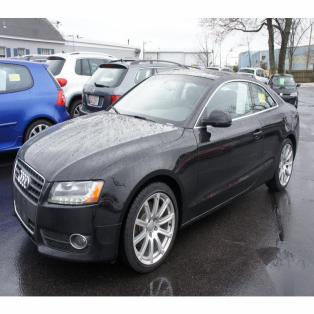Auto: (11, 66, 301, 275)
